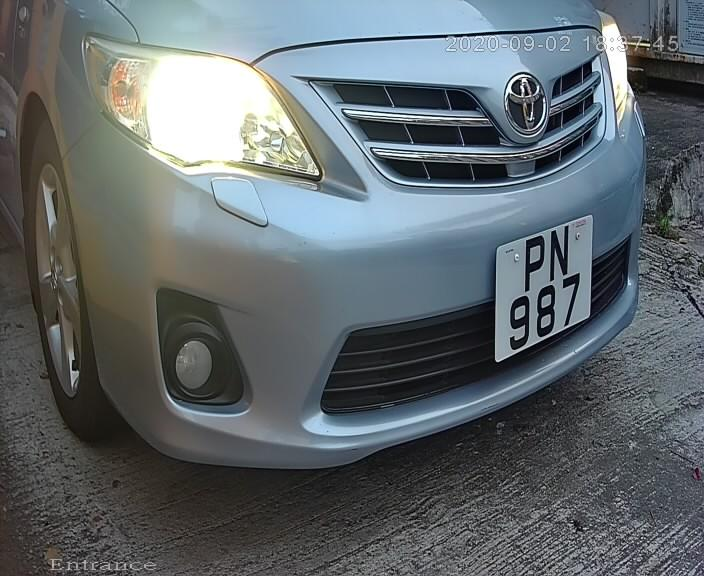License Plate: (485, 206, 601, 363)
